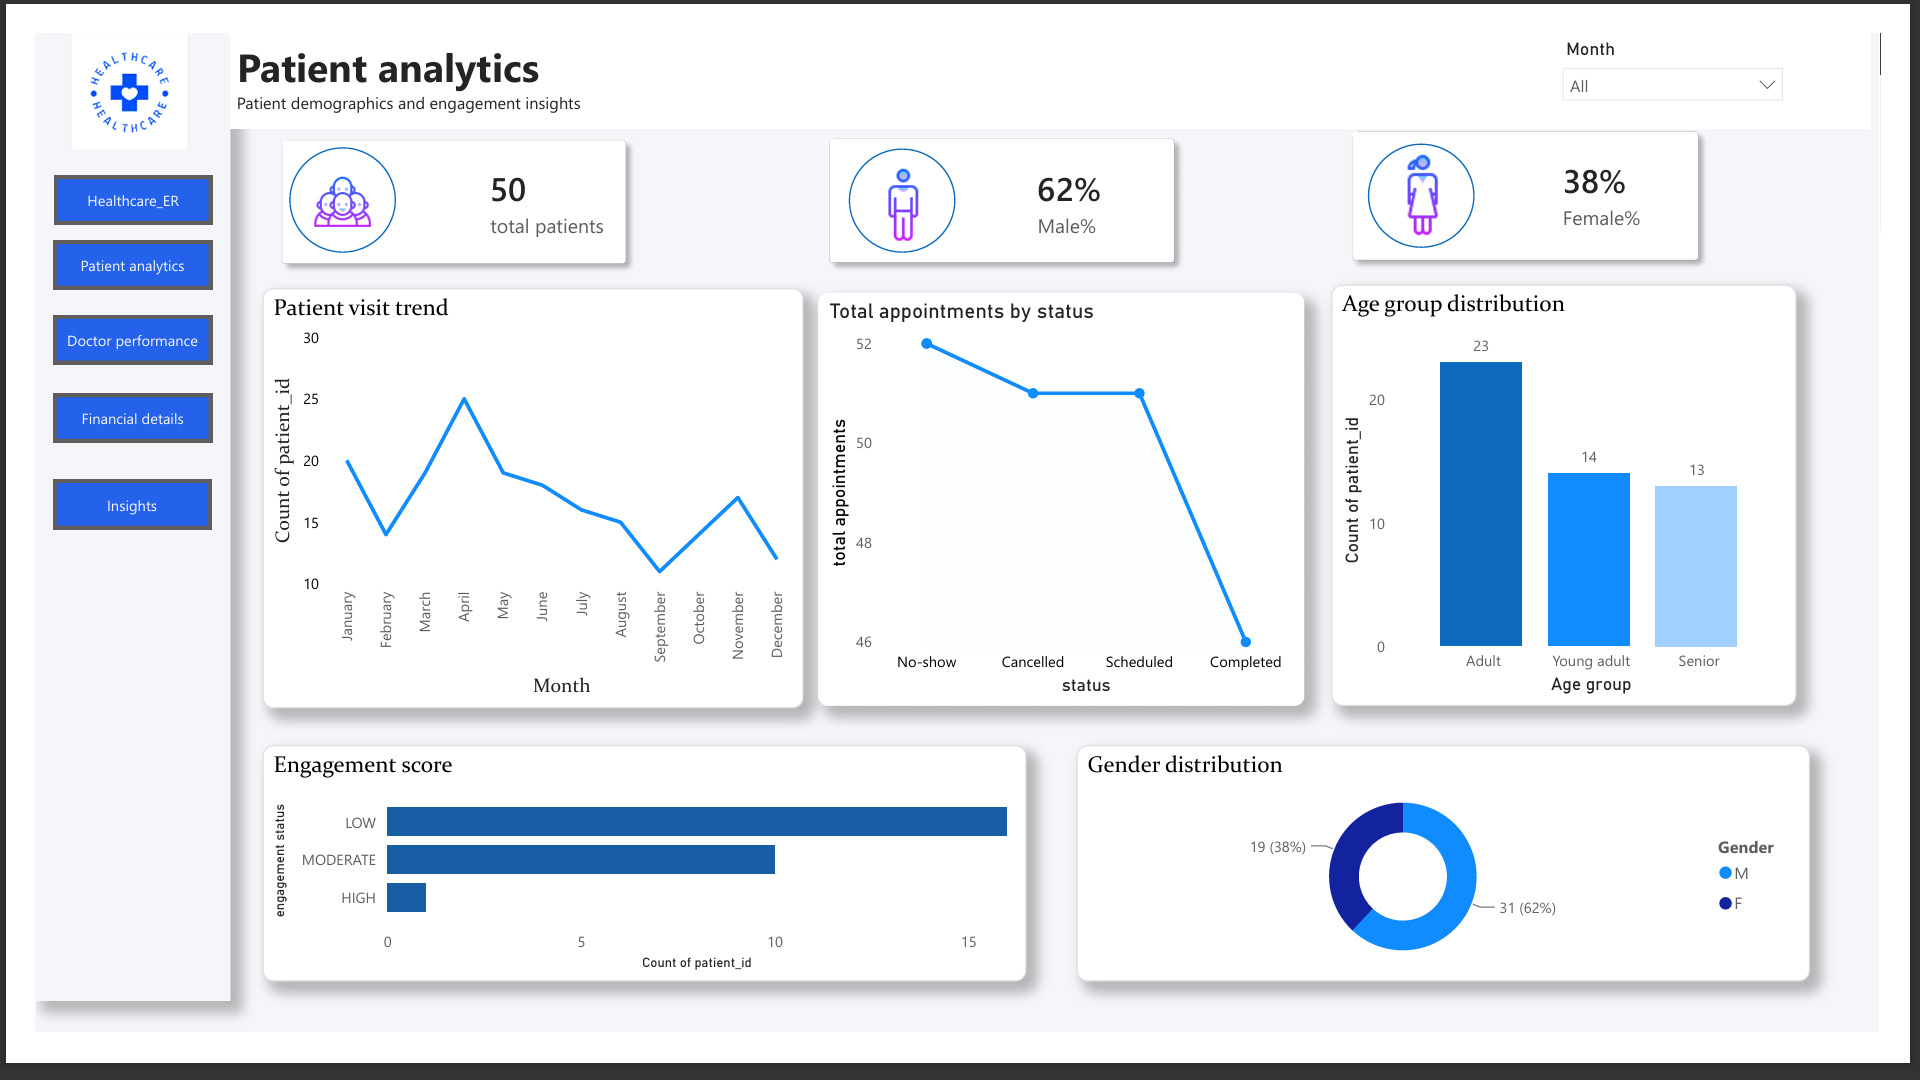

Layout of this report page (visuals, bound fields, positions):
{"tool":"powerbi","page":{"name":"Patient analytics","canvas":[1506,815],"ordinal":1},"visuals":[{"type":"donutChart","title":"Gender distribution","fields":{"Category":["patients.Gender"],"Y":["CountNonNull(patients.patient_id)"]},"box":[849.6,581.4,599.2,192.9],"z":0},{"type":"clusteredColumnChart","title":"Age group distribution","fields":{"Category":["patients.Age group"],"Y":["CountNonNull(patients.patient_id)"]},"box":[1057.5,205.2,380.3,343.4],"z":1000},{"type":"clusteredBarChart","title":"Engagement score","fields":{"Y":["CountNonNull(repeat_patients.patient_id)"],"Category":["repeat_patients.patient segment"]},"box":[184.7,581.4,623.9,192.9],"z":2000},{"type":"lineChart","title":"Patient visit trend","fields":{"Category":["appointments.appointment_date.Variation.Date Hierarchy.Month"],"Y":["CountNonNull(appointments.patient_id)"]},"box":[184.7,208,441.9,343.4],"z":3000},{"type":"shape","title":"Healthcare analytics","box":[0,0,159.2,789.6],"z":4000},{"type":"image","box":[8.4,0,136.3,95.3],"z":5000},{"type":"actionButton","box":[14.5,168.9,129.1,39.8],"z":6000},{"type":"actionButton","box":[14.4,229.8,129.2,40.5],"z":7000},{"type":"actionButton","box":[14.4,293.7,129.2,40.5],"z":8000},{"type":"textbox","box":[158.7,0,1340.7,78],"z":9000},{"type":"slicer","fields":{"Values":["monthly_rev.month_name"]},"box":[1236.5,0,200.5,63.7],"z":10000},{"type":"shape","box":[191.5,78,299.6,119],"z":11000},{"type":"shape","box":[206.6,93,87.6,86.2],"z":12000},{"type":"cardVisual","fields":{"Data":["patients.total patients"]},"box":[342,93,176.5,90.3],"z":13000},{"type":"shape","box":[638.9,76.6,299.6,119],"z":14000},{"type":"cardVisual","fields":{"Data":["patients.Male%"]},"box":[789.4,94.4,153.2,86.2],"z":15000},{"type":"shape","box":[663.5,94.4,87.6,84.8],"z":16000},{"type":"image","box":[658.1,105.3,99.9,71.1],"z":17000},{"type":"shape","box":[1065.7,71.1,301,123.1],"z":18000},{"type":"shape","box":[1087.6,90.3,87.6,84.8],"z":19000},{"type":"image","box":[1080.8,93,99.9,79.3],"z":20000},{"type":"cardVisual","fields":{"Data":["patients.Male%"]},"box":[1217.6,87.6,154.6,86.2],"z":21000},{"type":"areaChart","title":"Total appointments by status","fields":{"Y":["appointments.total appointments"],"Category":["appointments.status"]},"box":[638.9,212.1,396.7,336.6],"z":22000},{"type":"image","box":[221.6,105.3,57.5,64.3],"z":23000},{"type":"actionButton","title":"Executive dashboard","box":[15,116.3,128.6,39.7],"z":24000},{"type":"actionButton","box":[14.5,364.4,128.7,40.5],"z":25000}]}

Visuals, with their boxes on the page's 1506x815 design canvas (x1, y1, x2, y2). These are canvas units, not pixel positions in the 1920x1080 screenshot, which may show the page scaled, cropped or inside an application window:
"Gender distribution" donutChart: [850, 581, 1449, 774]
"Age group distribution" clusteredColumnChart: [1058, 205, 1438, 549]
"Engagement score" clusteredBarChart: [185, 581, 809, 774]
"Patient visit trend" lineChart: [185, 208, 627, 551]
"Healthcare analytics" shape: [0, 0, 159, 790]
image: [8, 0, 145, 95]
actionButton: [14, 169, 144, 209]
actionButton: [14, 230, 144, 270]
actionButton: [14, 294, 144, 334]
textbox: [159, 0, 1499, 78]
slicer - monthly_rev.month_name: [1236, 0, 1437, 64]
shape: [192, 78, 491, 197]
shape: [207, 93, 294, 179]
cardVisual - patients.total patients: [342, 93, 518, 183]
shape: [639, 77, 938, 196]
cardVisual - patients.Male%: [789, 94, 943, 181]
shape: [664, 94, 751, 179]
image: [658, 105, 758, 176]
shape: [1066, 71, 1367, 194]
shape: [1088, 90, 1175, 175]
image: [1081, 93, 1181, 172]
cardVisual - patients.Male%: [1218, 88, 1372, 174]
"Total appointments by status" areaChart: [639, 212, 1036, 549]
image: [222, 105, 279, 170]
"Executive dashboard" actionButton: [15, 116, 144, 156]
actionButton: [14, 364, 143, 405]
